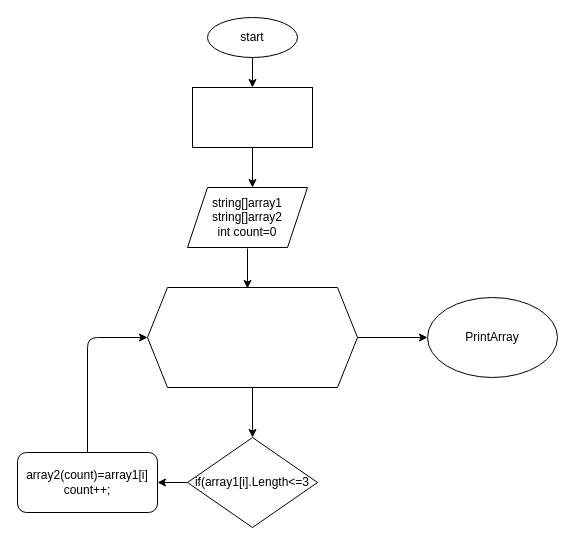
Image size: 575x545. Some labels were removed from this diagram. Here are the shapes that lost their labels. From the top down, the centre of each, then its label:
the point at 252,117: SecondArray
the point at 252,337: for(int i=0; i<array1.Length; i++;
